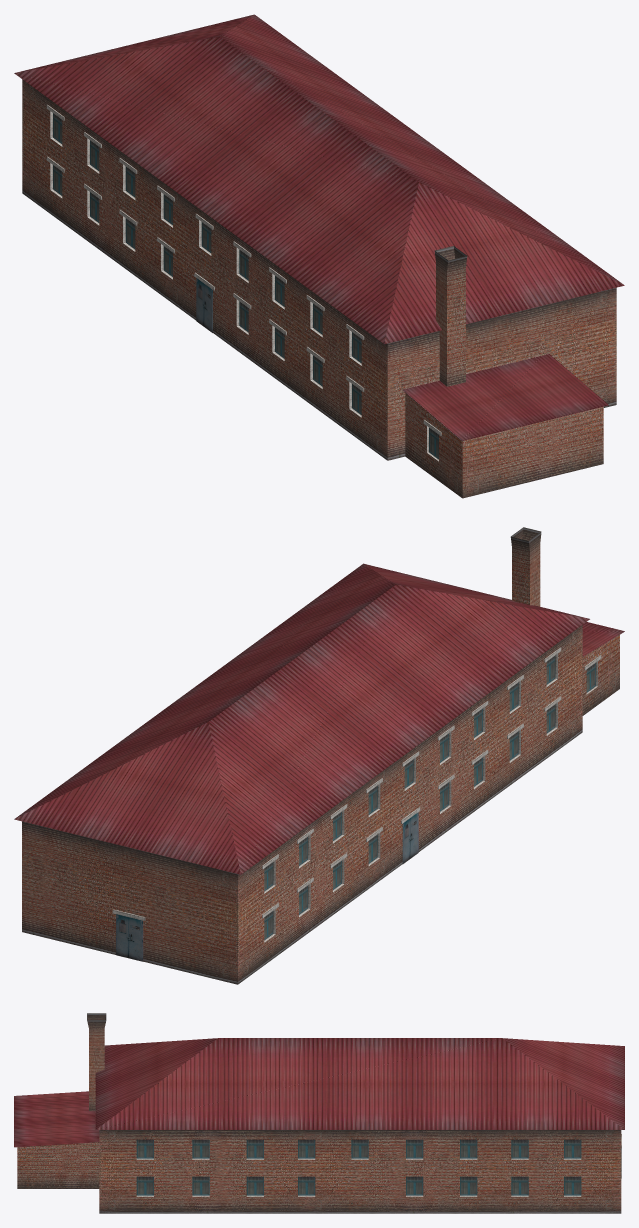
File: r402_olgino_dom_2et.FBX
3 renders of one model, top to bottom at view 1: azimuth 30°, elevation 25°; view 2: azimuth 150°, elevation 25°; view 3: azimuth 270°, elevation 25°, orthographic. The views are drawn at different scales.
Visible parts, largest first — view 1: r402_olgino_dom_2et; view 2: r402_olgino_dom_2et; view 3: r402_olgino_dom_2et.
Part boxes in pixels (<box>): r402_olgino_dom_2et: <box>14,14,624,498</box>; r402_olgino_dom_2et: <box>14,527,624,984</box>; r402_olgino_dom_2et: <box>14,1013,624,1213</box>.
Size of the model in its own units: 1261 by 3880 by 971.
